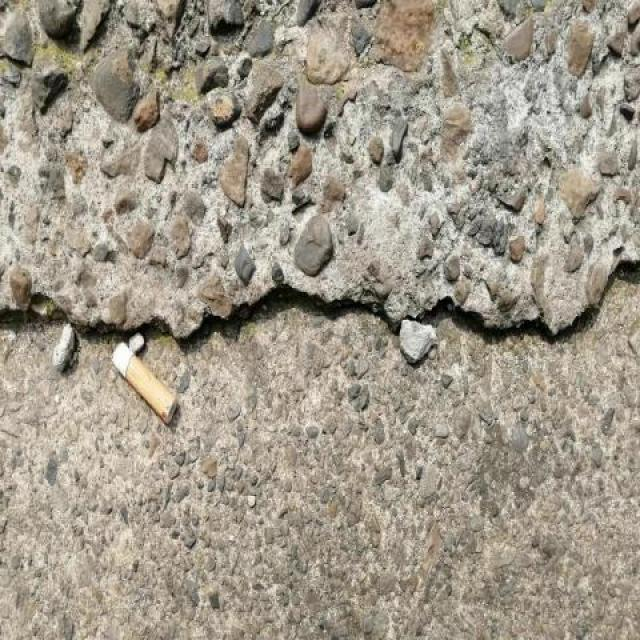non-organic waste: (105, 338, 183, 430)
